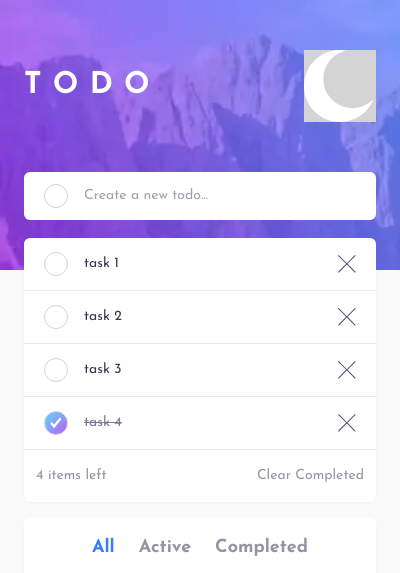
Todo List › can clear all completed tasks
Click the button "Clear Completed" at (311, 476), box [257,466,364,486]
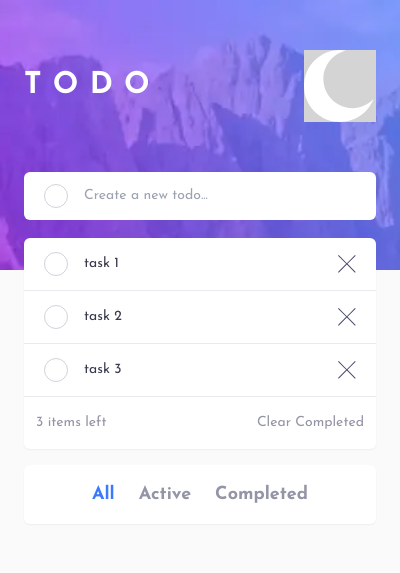
Expected: the text "task 1" is shown, [84,256,119,271]
Result: the text "task 4" is gone
